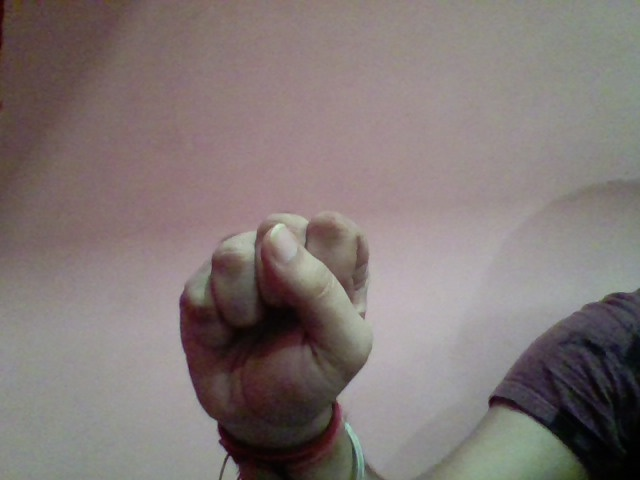s: (167, 201, 388, 431)
